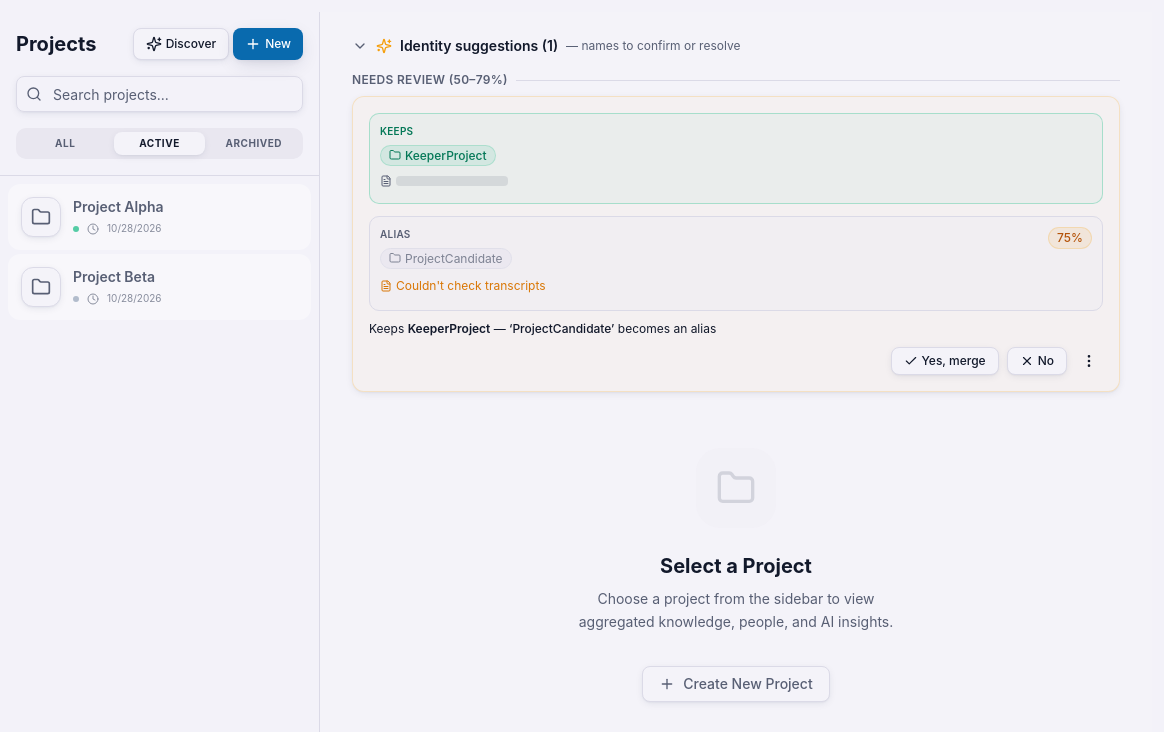
Test: Projects Page › keeps the project hub reachable when suggestions exist, expanding on Review
This screenshot has width=1164, height=732.
Click the text "Project Alpha".
click(118, 206)  # box 73,198 -> 164,215
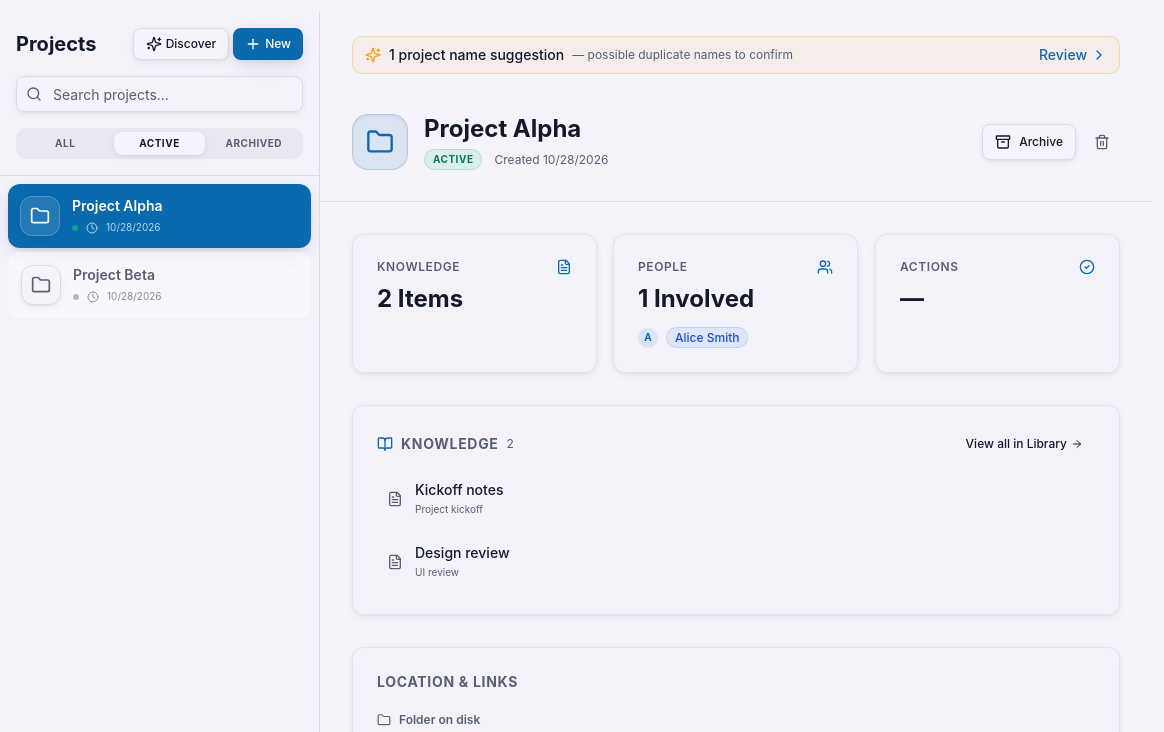
Expected: the heading "Project Alpha" is shown, 424,113 -> 581,145
Expected: the text "Kickoff notes" is shown, 415,481 -> 504,498
Expected: the button with aria-label "Review 1 project name suggestion" is shown
# Clicking Review expands the full section (candidate now visible) with a Back control.
Click the button with aria-label "Review 1 project name suggestion".
click(736, 55)  # box 352,36 -> 1120,74
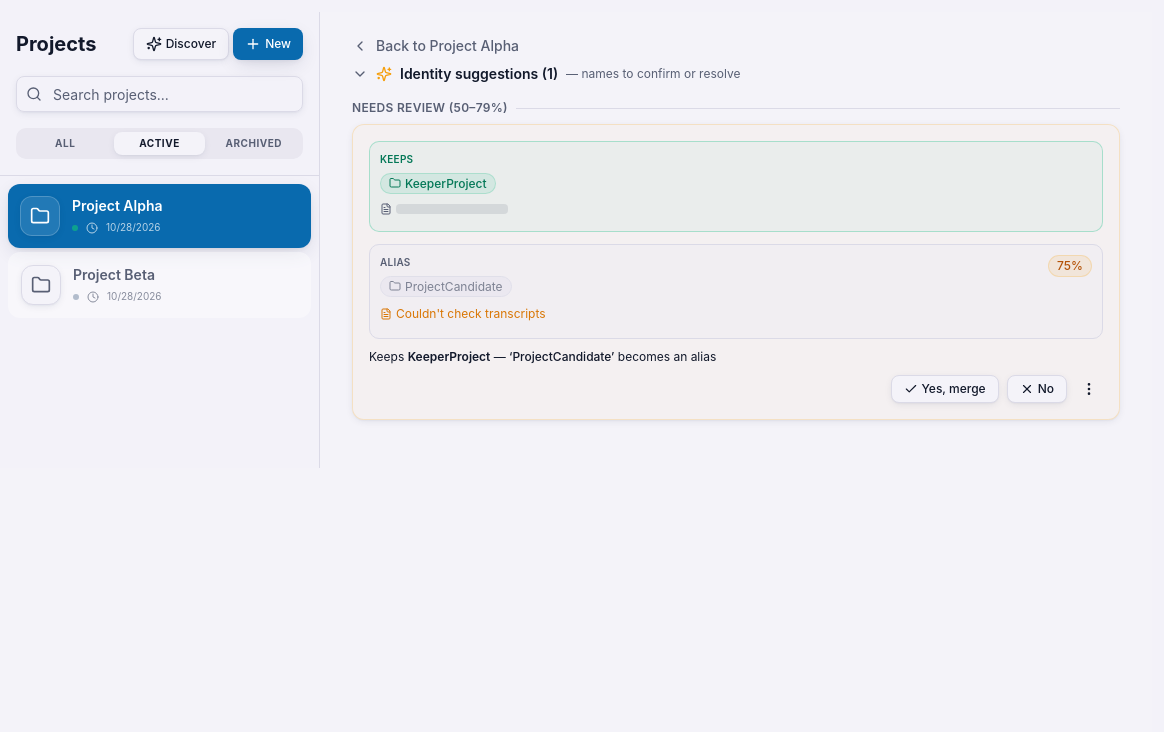
Expected: the text "ProjectCandidate" is shown, 405,278 -> 503,294
Expected: the button "Back to Project Alpha" is shown
# Collapsing back returns to the hub and hides the full section.
Click the button "Back to Project Alpha".
click(403, 46)  # box 320,12 -> 1152,64
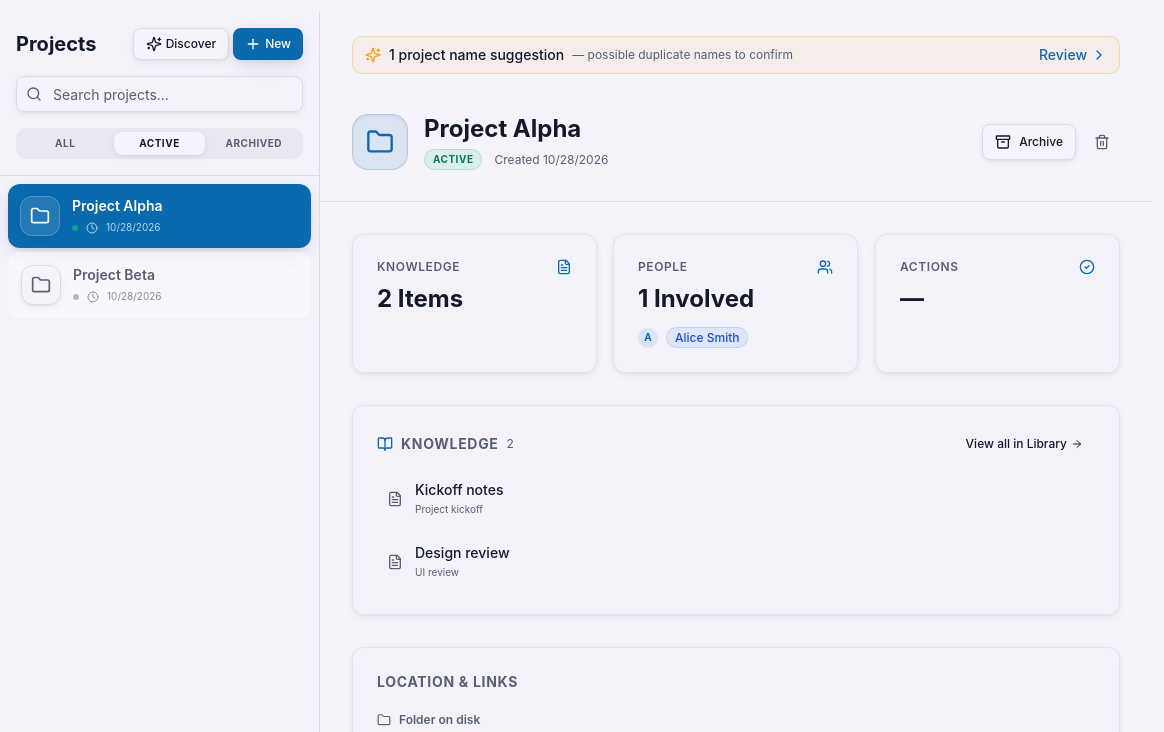
Expected: the button with aria-label "Review 1 project name suggestion" is shown, 352,36 -> 1120,74
Expected: the text "ProjectCandidate" is gone
